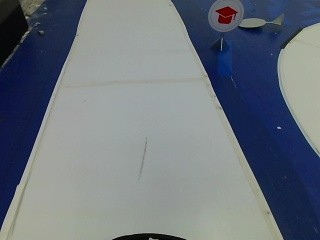school: (206, 0, 242, 33)
